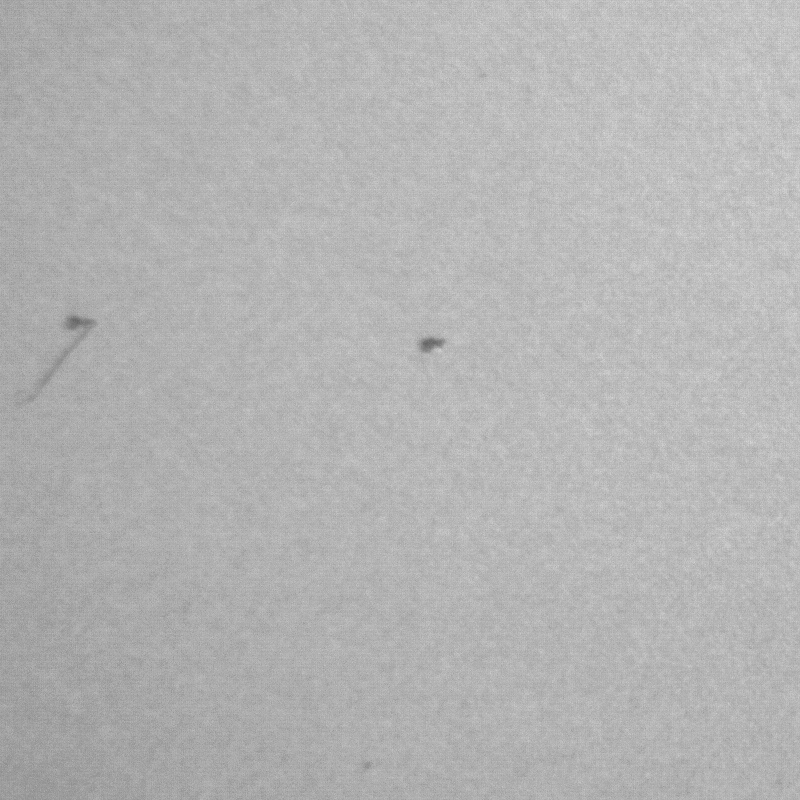defect: (25, 314, 96, 400), (410, 335, 454, 357), (358, 759, 383, 780)
